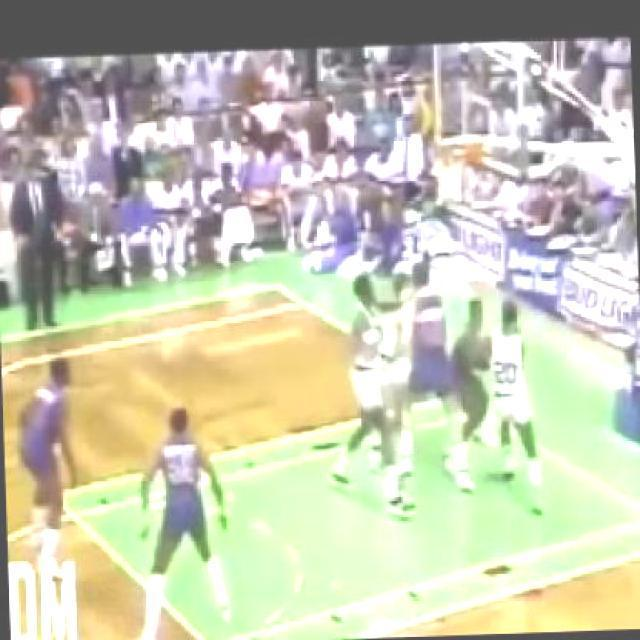fight: (348, 254, 470, 523)
non-fight: (122, 390, 254, 640), (2, 354, 116, 568)
